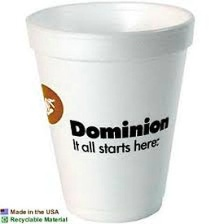paper_cup: (20, 0, 198, 224)
